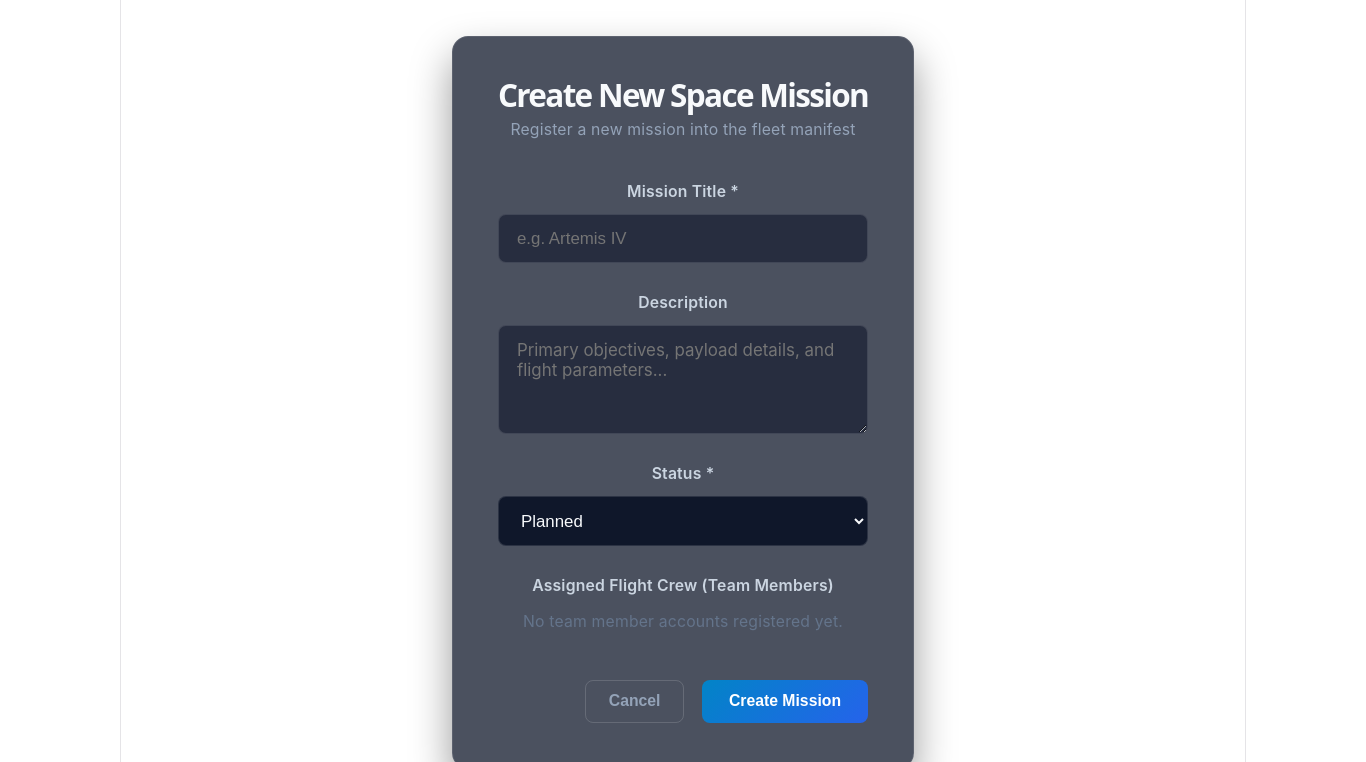
Test case: Create and Edit Mission Forms (Issue #14) › displays 4xx API error inline
Type "Duplicate Mission" into the field labelled "Mission Title *".
click(683, 239); type("Duplicate Mission")  # box [498,214,868,263]
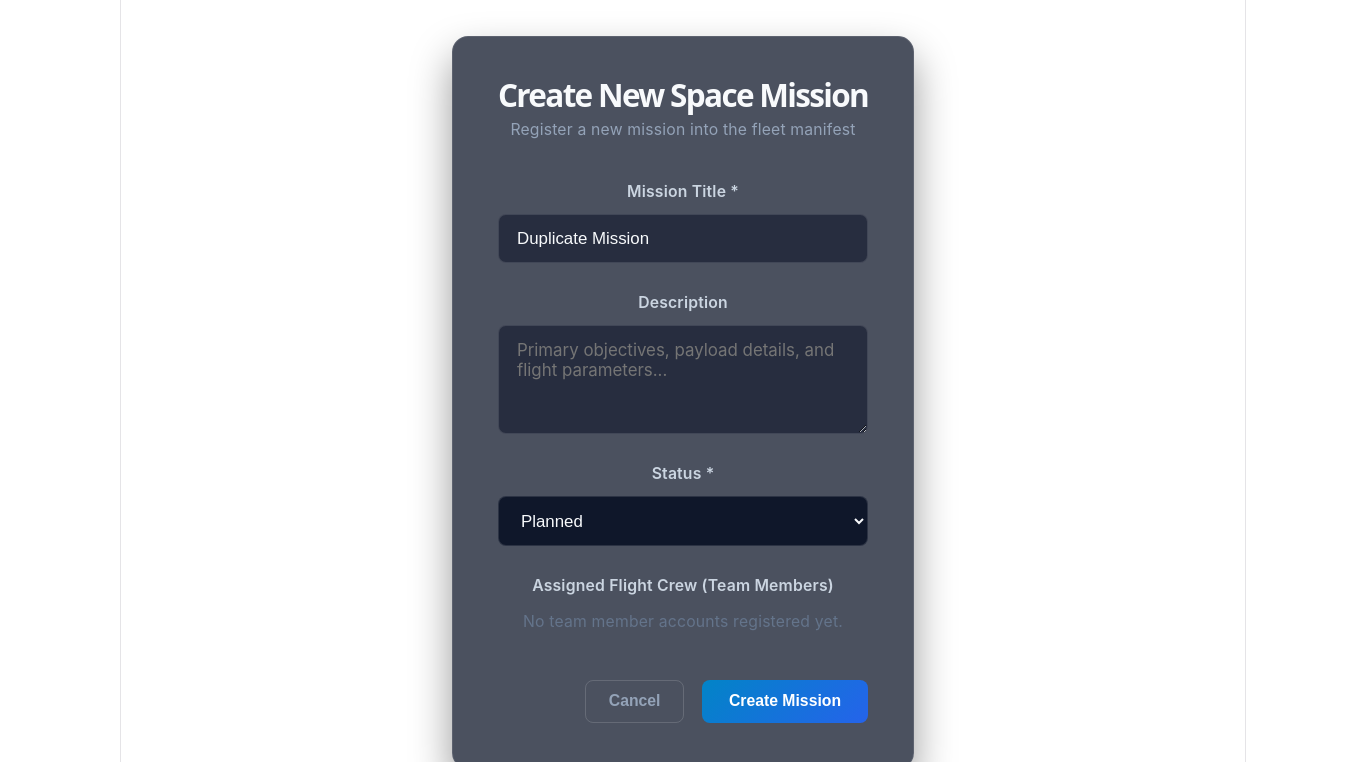
Click the button "Create Mission".
click(785, 701)  # box [702,680,868,723]
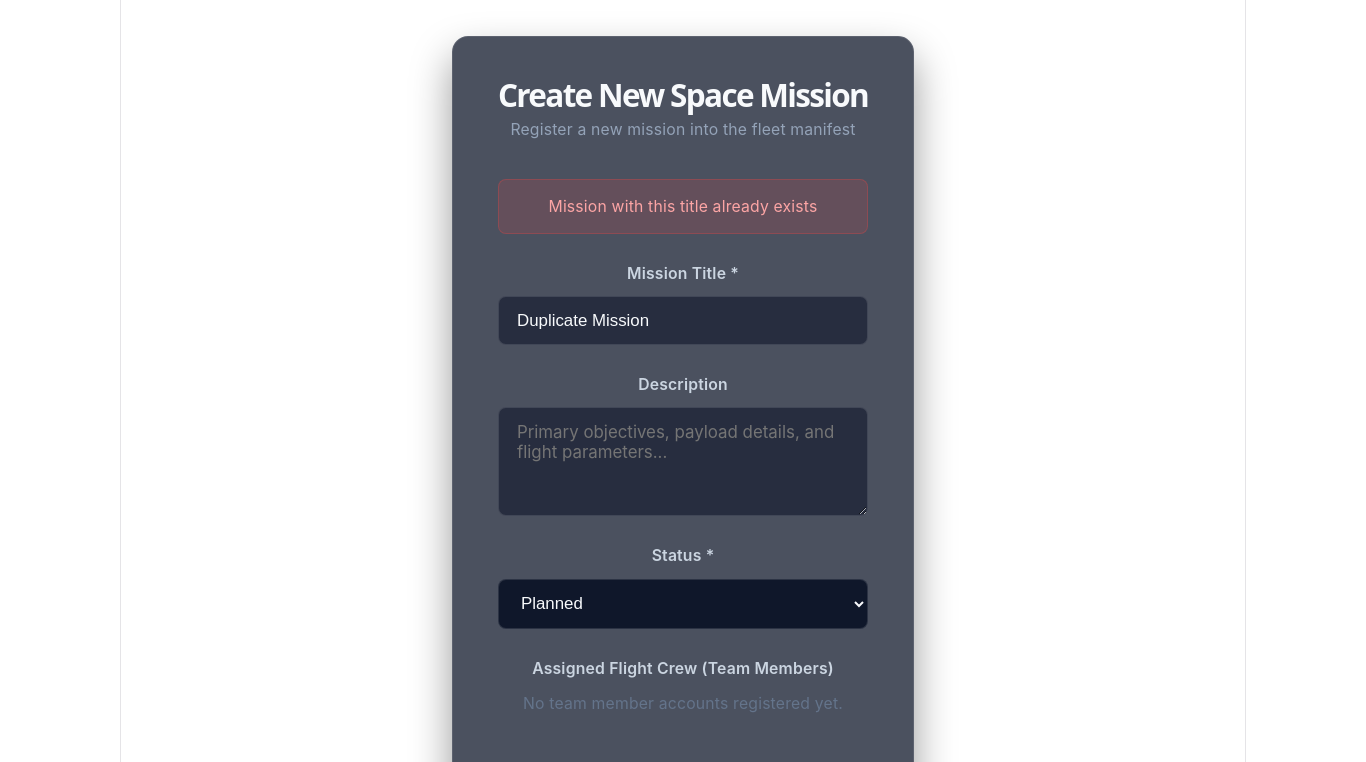
Check: the text "Mission with this title already exists" is shown, box [498,179,868,234]
